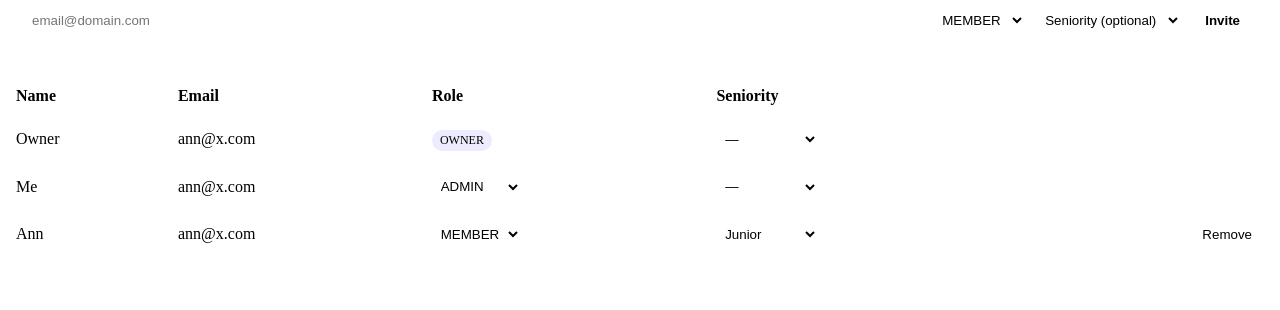
Test case: MembersPanel › shows an error when changing a role fails
Select "ADMIN" in the 6th dropdown at (476, 234), box 432,221 -> 520,248
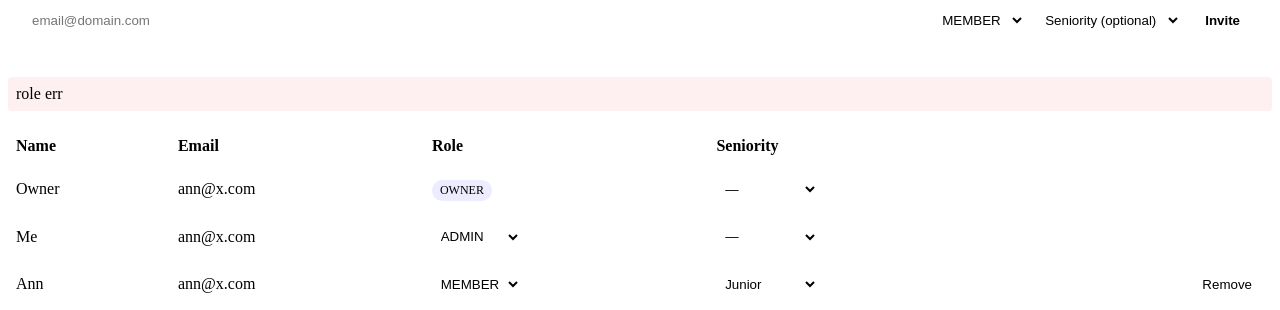
Result: the text "role err" is shown at 8,77 -> 1272,111
